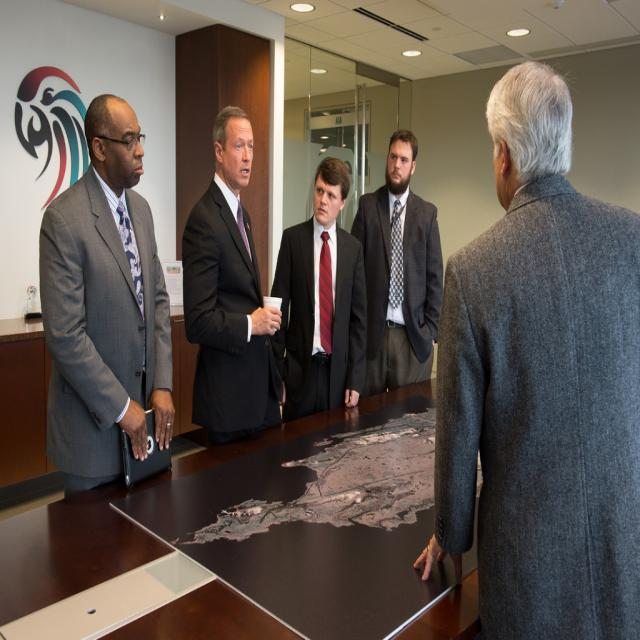desk: (0, 377, 482, 639)
person: (412, 56, 638, 633), (39, 92, 176, 500), (180, 105, 286, 448), (349, 127, 445, 399), (270, 155, 368, 421)
